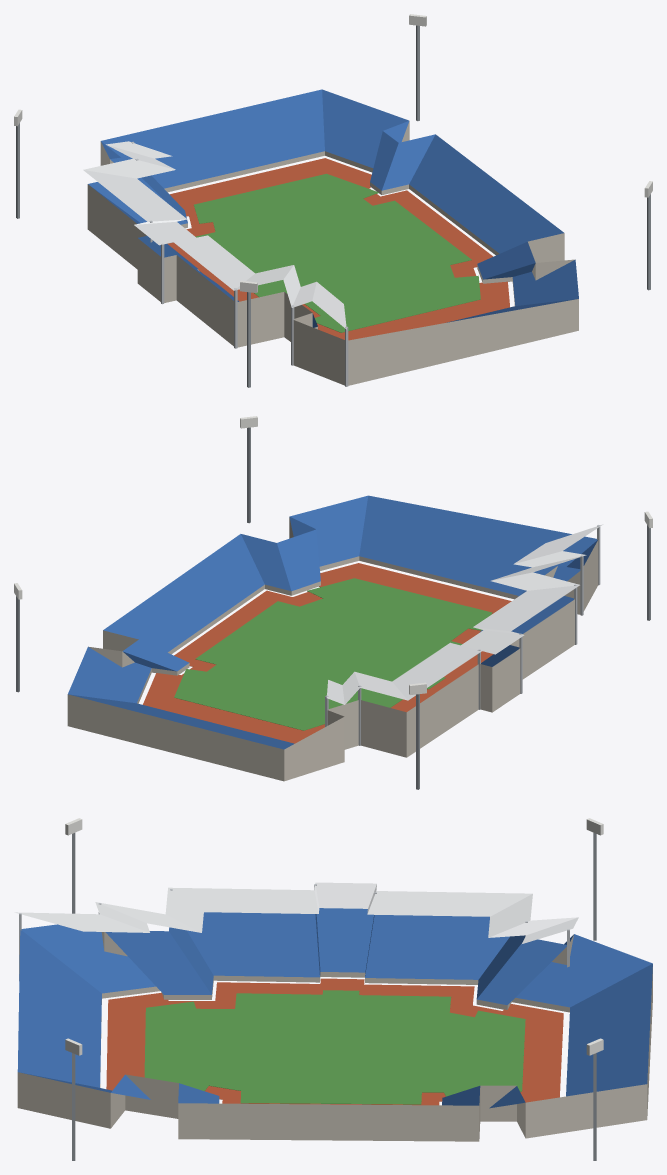
The model's file is aung_san_stadium.glb.
The picture shows the model from 3 angles, top to bottom: view 1: azimuth 30°, elevation 25°; view 2: azimuth 150°, elevation 25°; view 3: azimuth 270°, elevation 25°; orthographic projection. The views are drawn at different scales.
Visible parts, largest first — view 1: ring; view 2: ring; view 3: ring.
Boxes of the visible parts, x1,y1,x2,y2 form: ring: (14,14,652,387); ring: (14,416,652,789); ring: (14,818,652,1160).
Bounding box in the file's own units: 6220724 × 1507016 × 7383434.
